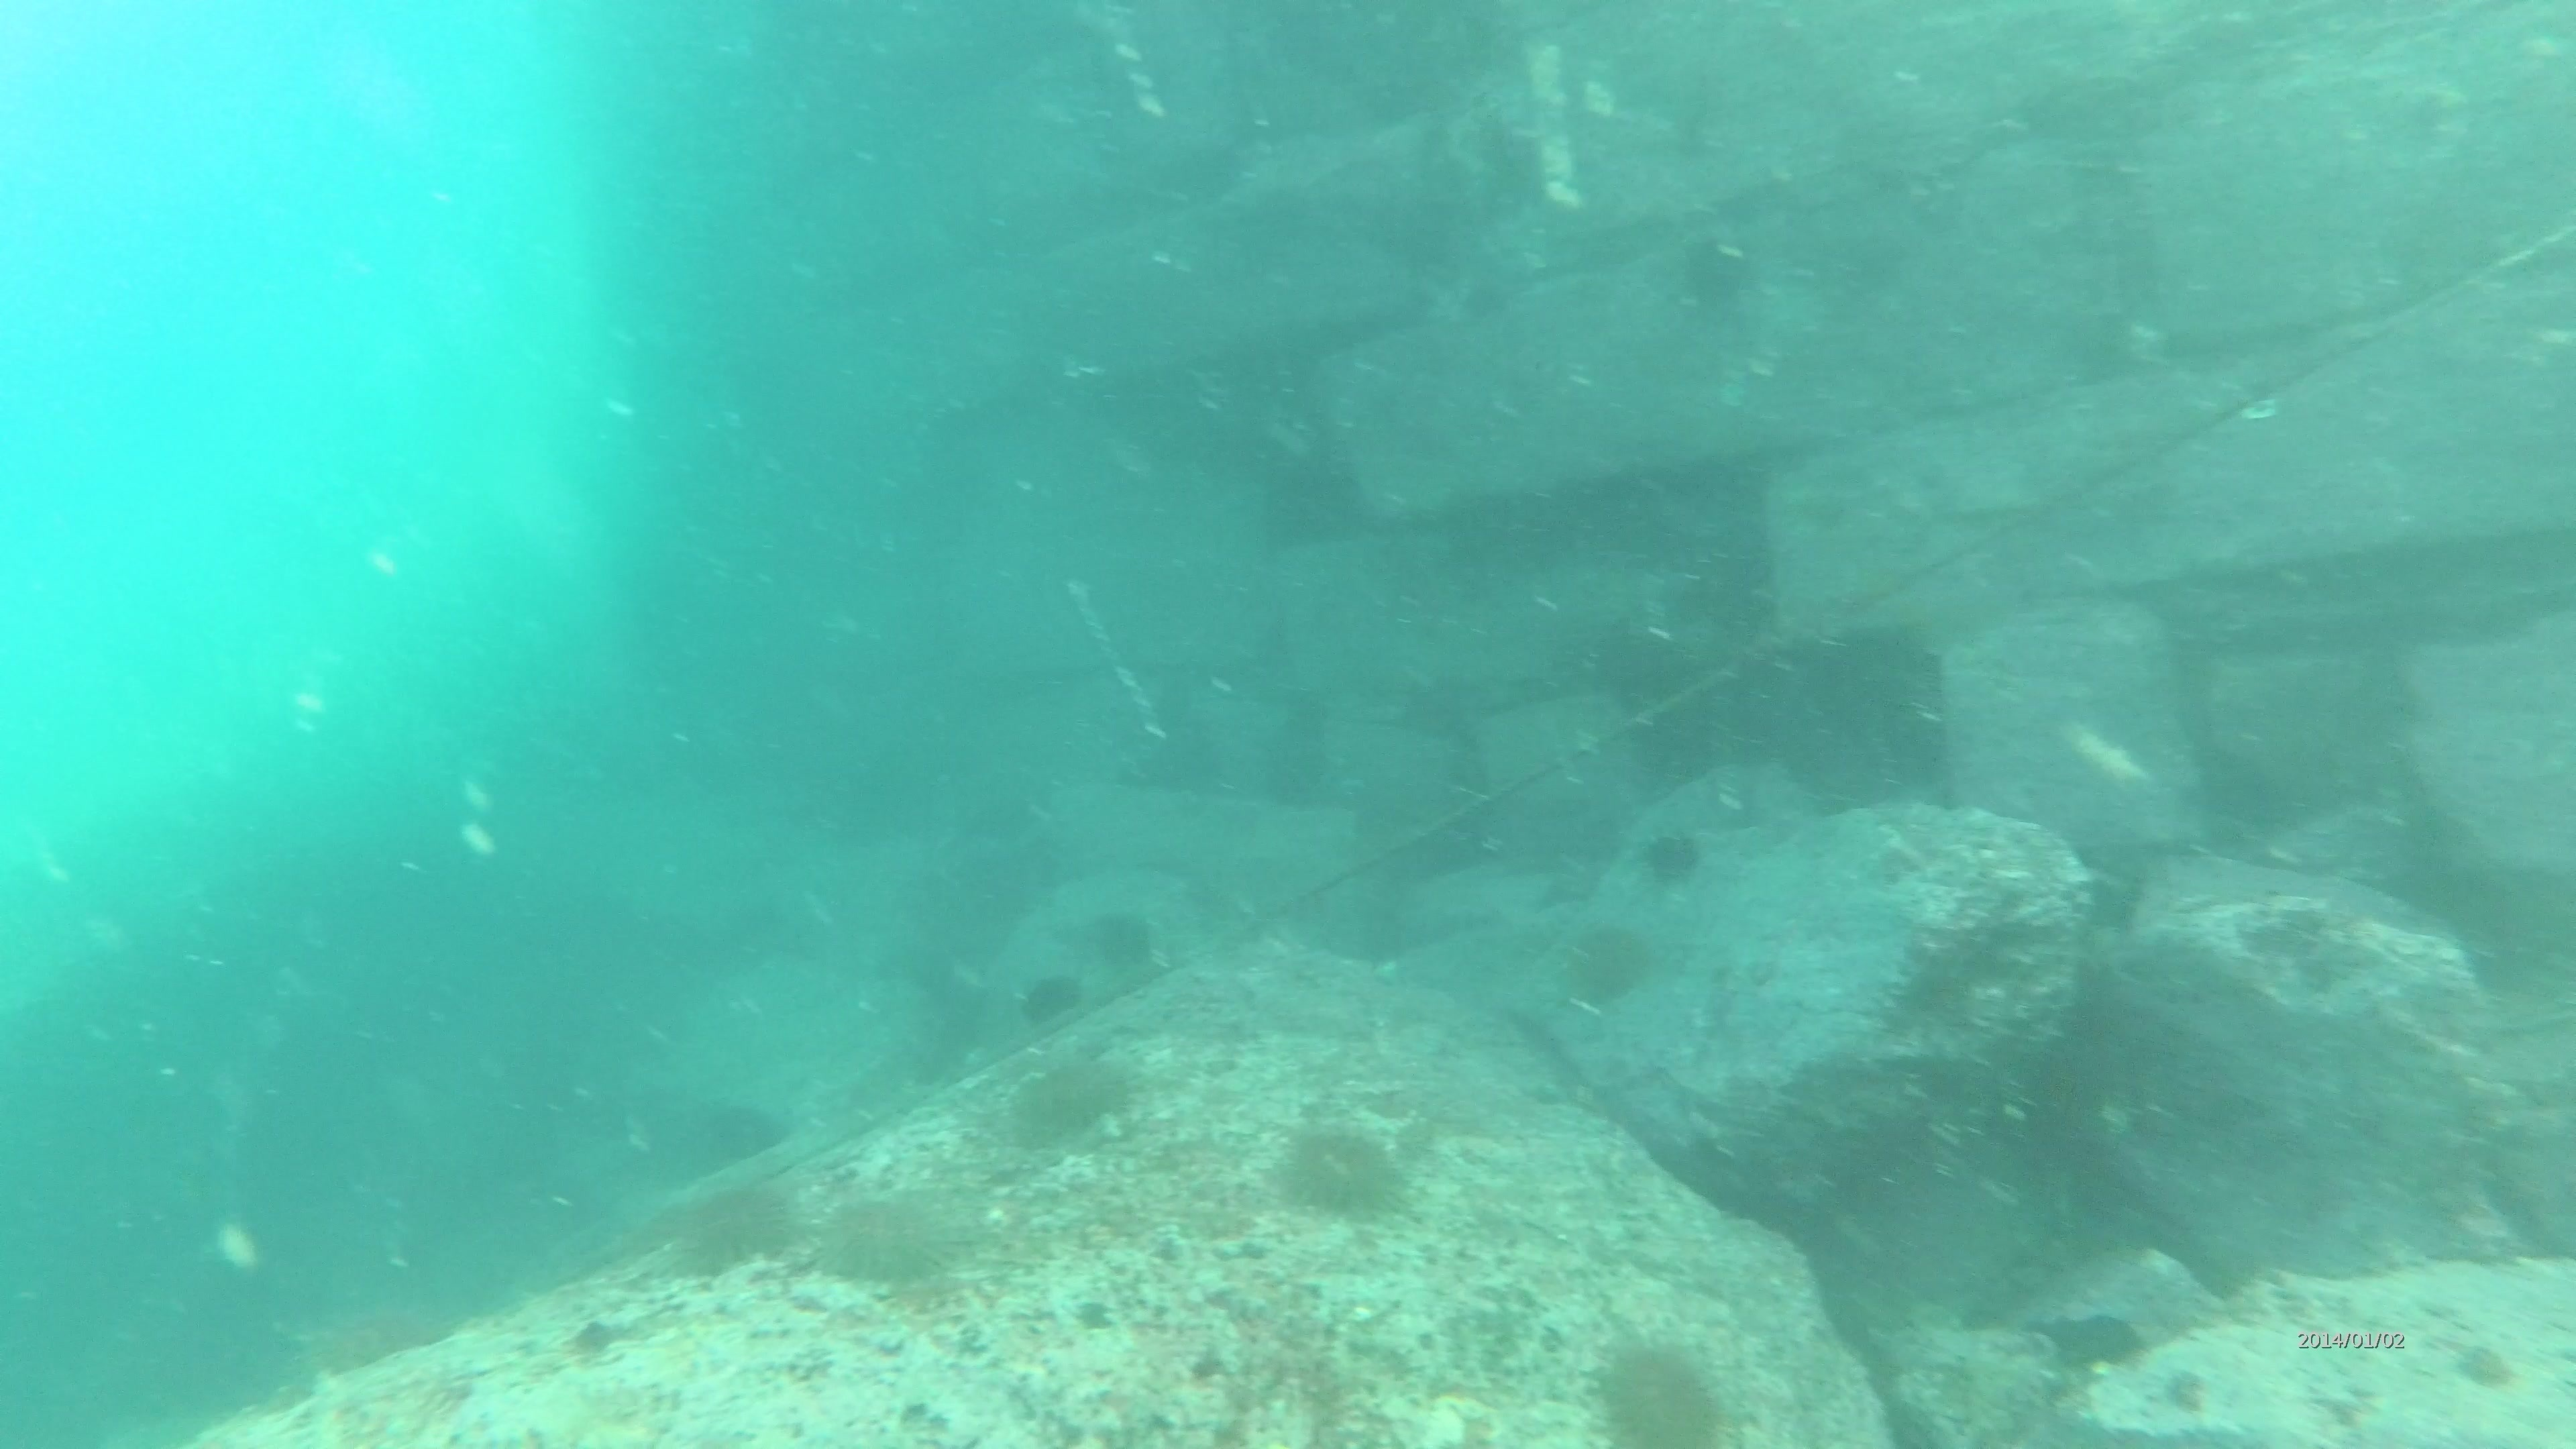echinus: (798, 1175, 970, 1295), (1583, 1330, 1737, 1447), (1269, 1108, 1417, 1228), (663, 1171, 803, 1283), (1001, 1046, 1143, 1154), (1555, 916, 1658, 1014), (1668, 225, 1766, 322), (1079, 902, 1173, 989), (1633, 821, 1711, 893), (1012, 964, 1090, 1035)
